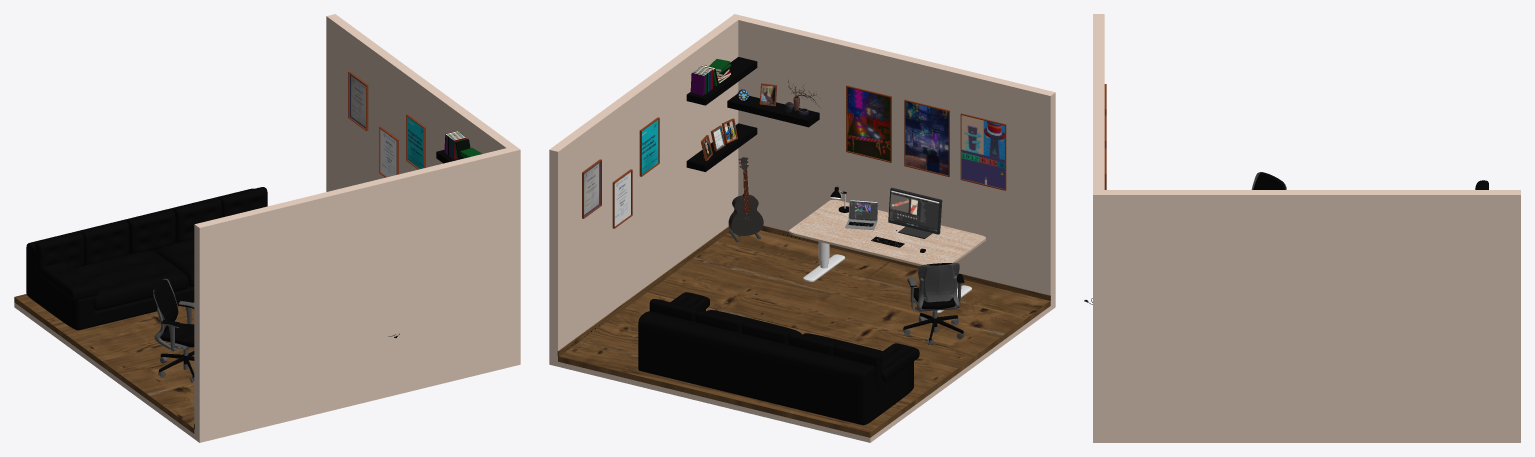
The model's file is room.gltf.
3 views of the same model, side by side, from view 1: azimuth 30°, elevation 25°; view 2: azimuth 150°, elevation 25°; view 3: azimuth 270°, elevation 25° (orthographic). The views are drawn at different scales.
Parts seen in each view (by area): view 1: Walls.002, Sofa.001, Chair.001, Frame.003, Frame.004, Frame.005, Books.001; view 2: Walls.002, Sofa.001, Table.001, Shelfes, Frame.002, Frame.006, Frame.001, Chair.001, Monitor, Guitar.001, Frame.005, Frame.004 (+3 smaller); view 3: Walls.002, Chair.001.
Part boxes in pixels (bbox=[...]): Walls.002: bbox=[14, 14, 520, 442]; Sofa.001: bbox=[26, 187, 267, 330]; Chair.001: bbox=[153, 278, 194, 382]; Frame.003: bbox=[348, 71, 368, 130]; Frame.004: bbox=[406, 114, 425, 169]; Frame.005: bbox=[379, 126, 398, 177]; Books.001: bbox=[444, 131, 482, 159]; Walls.002: bbox=[549, 14, 1055, 442]; Sofa.001: bbox=[638, 292, 919, 425]; Table.001: bbox=[789, 200, 985, 312]; Shelfes: bbox=[686, 57, 819, 171]; Frame.002: bbox=[960, 113, 1006, 190]; Frame.006: bbox=[846, 85, 891, 162]; Frame.001: bbox=[904, 99, 949, 176]; Chair.001: bbox=[903, 262, 964, 345]; Monitor: bbox=[888, 187, 942, 238]; Guitar.001: bbox=[728, 157, 763, 241]; Frame.005: bbox=[612, 169, 632, 228]; Frame.004: bbox=[639, 117, 659, 176]; Walls.002: bbox=[1093, 14, 1520, 442]; Chair.001: bbox=[1251, 172, 1286, 189].
Size of the model in its own units: 8.23 by 5.26 by 8.4.
Materials: 63 (16 with a texture image).
